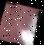dent: (0, 1, 44, 45)
